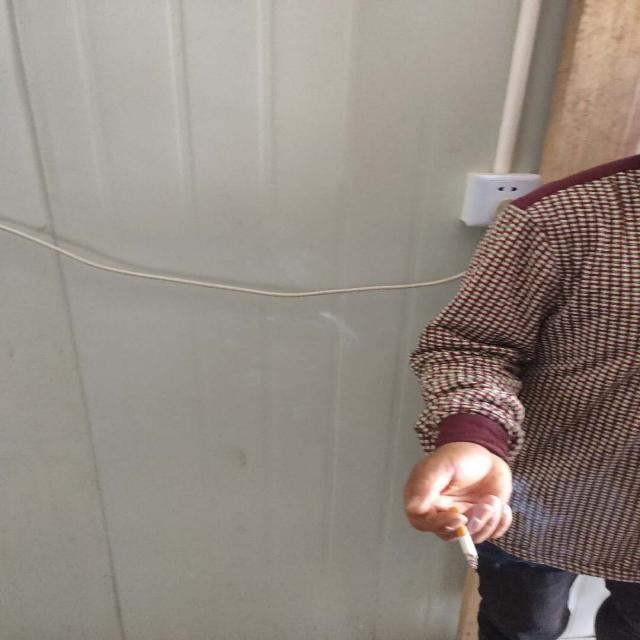smoke: (440, 502, 503, 582)
